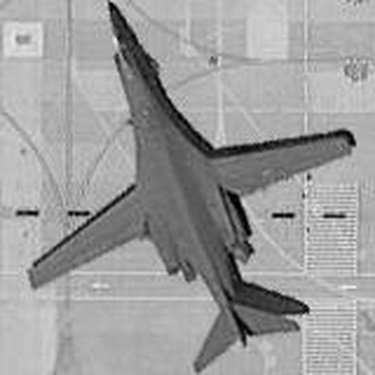airplane: (10, 4, 358, 369)
